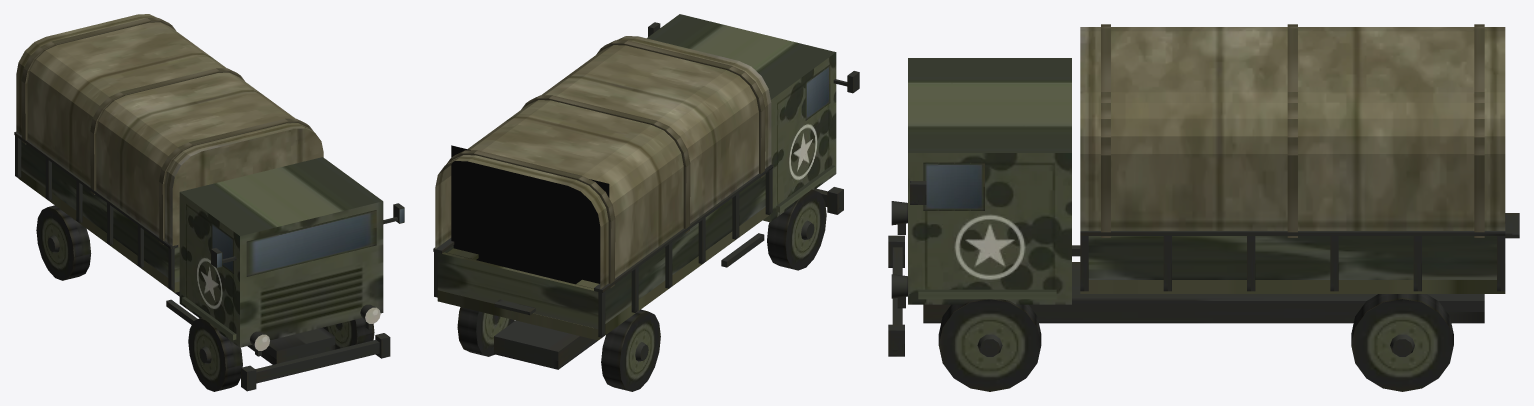
File: landTransport.glb
The picture shows the model from 3 angles, left to right: view 1: azimuth 30°, elevation 25°; view 2: azimuth 150°, elevation 25°; view 3: azimuth 270°, elevation 25°; orthographic projection. The views are drawn at different scales.
Visible parts, largest first — view 1: body, tarp, roue_right_2, roue_right_1, roue_left_1; view 2: tarp, body, fond_sombre, tailgate, roue_right_2, roue_right_1, roue_left_2; view 3: tarp, body, roue_left_2, roue_left_1.
Boxes of the visible parts, box(x1,y1,x2,y2) form: body: box(14, 132, 404, 391); tarp: box(16, 14, 323, 247); roue_right_2: box(36, 205, 91, 280); roue_right_1: box(188, 317, 242, 391); roue_left_1: box(323, 318, 374, 349); tarp: box(435, 36, 771, 289); body: box(433, 14, 859, 369); fond_sombre: box(451, 145, 609, 284); tailgate: box(437, 252, 598, 328); roue_right_2: box(601, 309, 660, 391); roue_right_1: box(767, 189, 826, 270); roue_left_2: box(457, 307, 514, 356); tarp: box(1080, 24, 1505, 237); body: box(888, 58, 1505, 356); roue_left_2: box(1351, 294, 1453, 391); roue_left_1: box(938, 299, 1041, 391).
Bounding box in the file's own units: 2.87 × 3.04 × 6.15.
8 materials, 7 textured.
